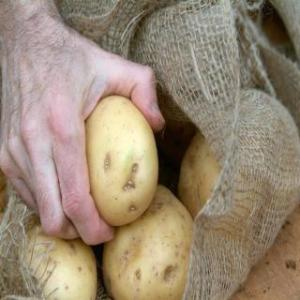potato: (103, 188, 195, 300), (86, 96, 158, 225), (180, 128, 256, 228), (27, 226, 96, 300)
